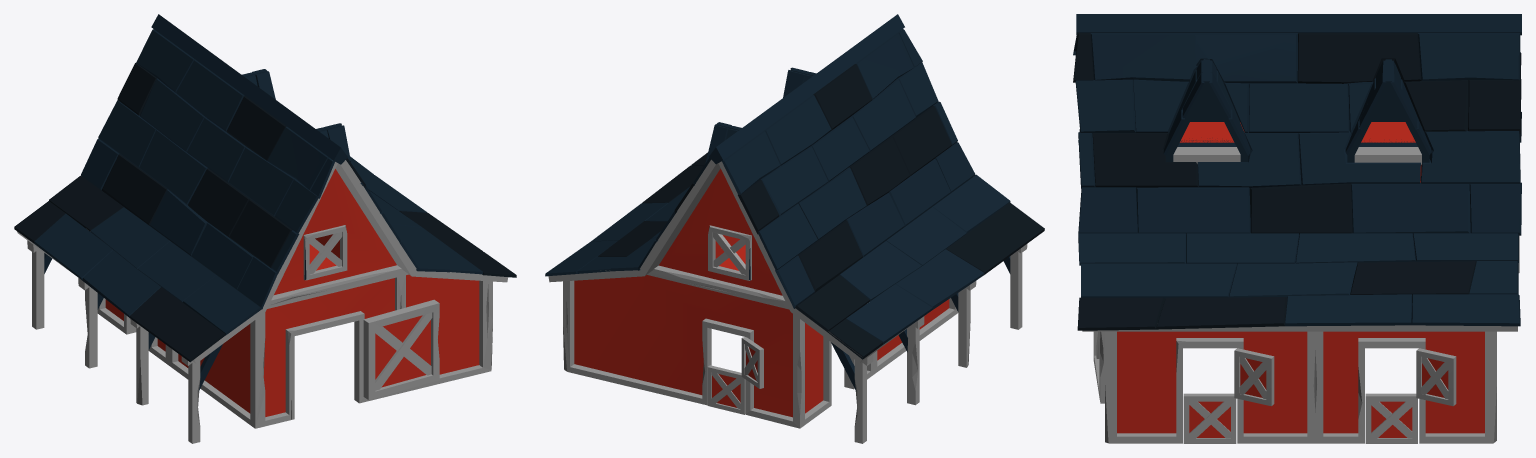
File: Stable.fbx
3 views of the same model, side by side, from view 1: azimuth 30°, elevation 25°; view 2: azimuth 150°, elevation 25°; view 3: azimuth 270°, elevation 25° (orthographic). The views are drawn at different scales.
Parts seen in each view (by area): view 1: Stable; view 2: Stable; view 3: Stable.
Boxes of the visible parts, x1=… form: Stable: x1=14, y1=14, x2=516, y2=443; Stable: x1=545, y1=14, x2=1044, y2=443; Stable: x1=1073, y1=14, x2=1521, y2=443.
Bounding box in the file's own units: 344 × 270 × 331.
